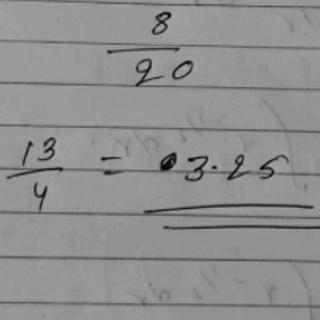.: (210, 161, 221, 173)
0: (172, 59, 194, 79)
1: (22, 140, 35, 168)
2: (129, 56, 162, 90), (227, 154, 254, 181)
3: (183, 154, 213, 183), (39, 136, 58, 163)
4: (30, 182, 53, 209)
5: (259, 152, 288, 181)
8: (147, 4, 175, 37)
